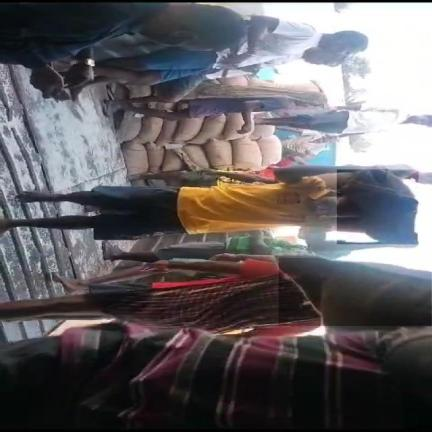Zone-Counting: (0, 167, 417, 244)
